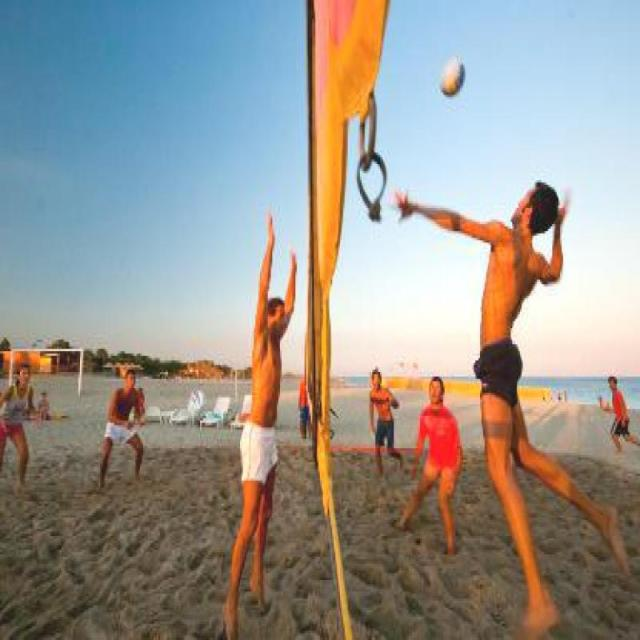volleyball: (440, 56, 465, 97)
